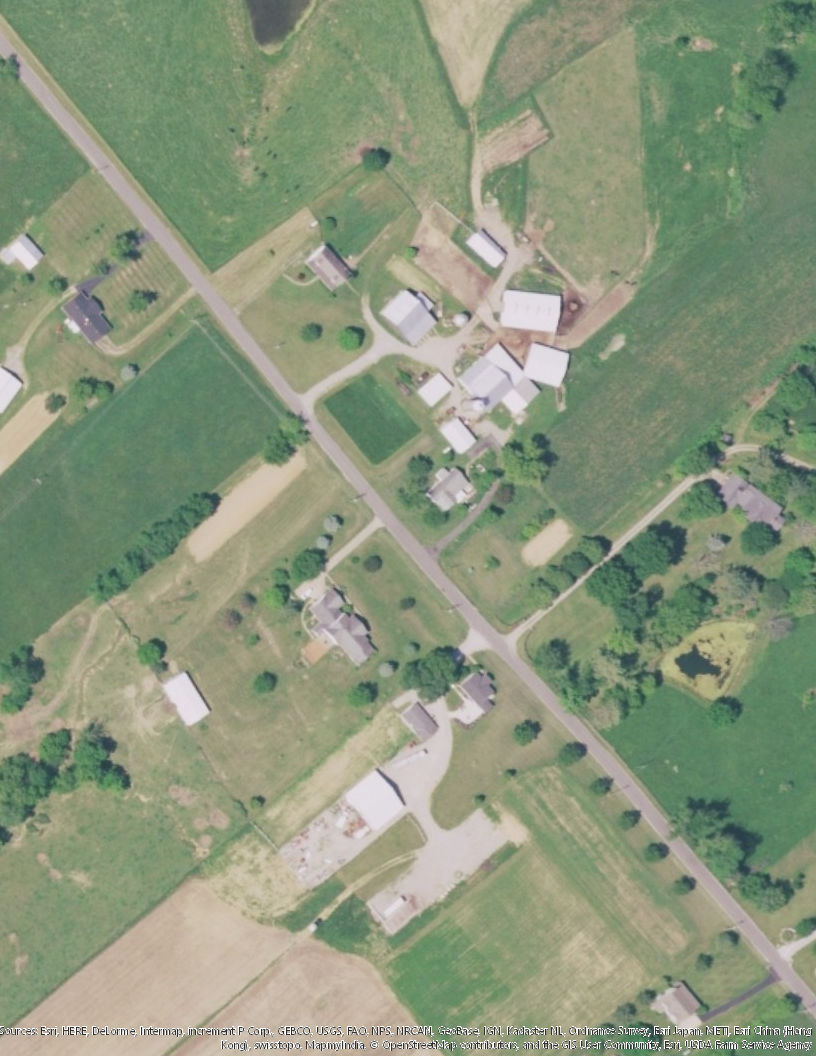cafo: (459, 337, 570, 416), (496, 286, 569, 336)
